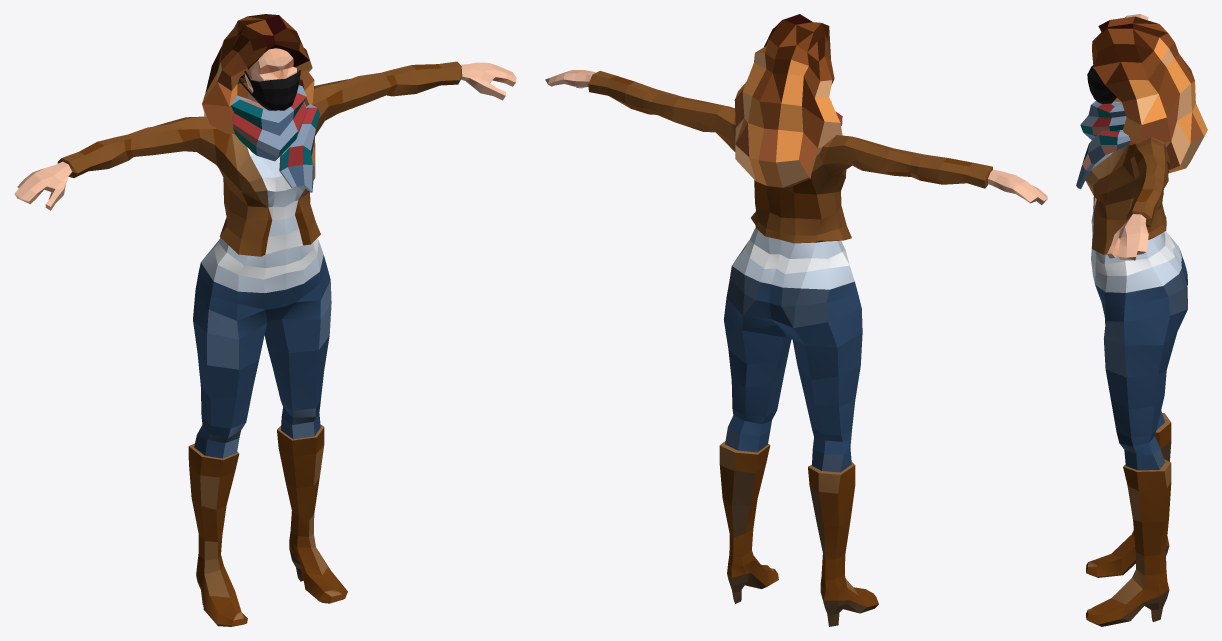
File: winter_Female_B-model.obj
The picture shows the model from 3 angles, left to right: view 1: azimuth 30°, elevation 25°; view 2: azimuth 150°, elevation 25°; view 3: azimuth 270°, elevation 25°; orthographic projection.
Visible parts, largest first — view 1: winter_Female_B, acc_hair_long, acc_scarf, acc_mask_black; view 2: winter_Female_B, acc_hair_long; view 3: winter_Female_B, acc_hair_long, acc_scarf, acc_mask_black.
Boxes of the visible parts, <box> form: winter_Female_B: <box>14,48,516,626</box>; acc_hair_long: <box>202,14,314,134</box>; acc_scarf: <box>230,85,319,192</box>; acc_mask_black: <box>239,70,300,110</box>; winter_Female_B: <box>545,70,1047,626</box>; acc_hair_long: <box>734,14,842,187</box>; winter_Female_B: <box>1085,14,1187,626</box>; acc_hair_long: <box>1092,16,1207,173</box>; acc_scarf: <box>1076,101,1130,189</box>; acc_mask_black: <box>1087,65,1116,104</box>.
Size of the model in its own units: 154 by 172 by 35.68.
